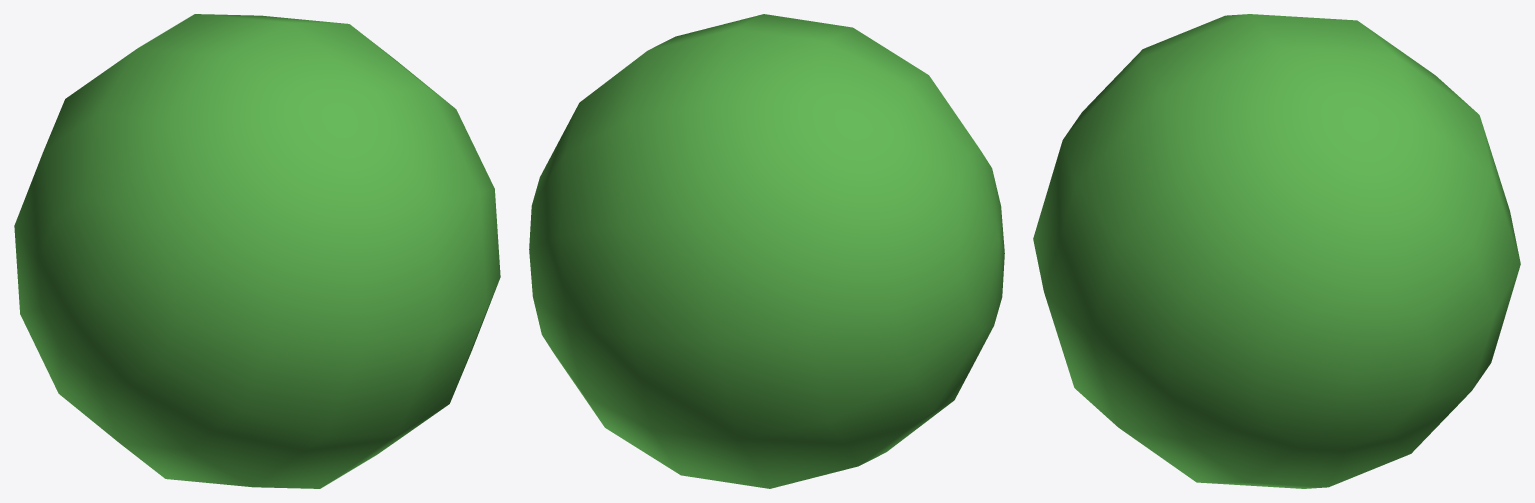
The model's file is linfatico-fibular-node-r.glb.
The picture shows the model from 3 angles, left to right: view 1: azimuth 30°, elevation 25°; view 2: azimuth 150°, elevation 25°; view 3: azimuth 270°, elevation 25°; orthographic projection. The views are drawn at different scales.
Visible parts, largest first — view 1: (Fibular node).r; view 2: (Fibular node).r; view 3: (Fibular node).r.
Part boxes in pixels (<box>): (Fibular node).r: <box>14,14,500,488</box>; (Fibular node).r: <box>529,14,1004,488</box>; (Fibular node).r: <box>1033,14,1520,488</box>.
Size of the model in its own units: 0.0026 by 0.00257 by 0.00259.
